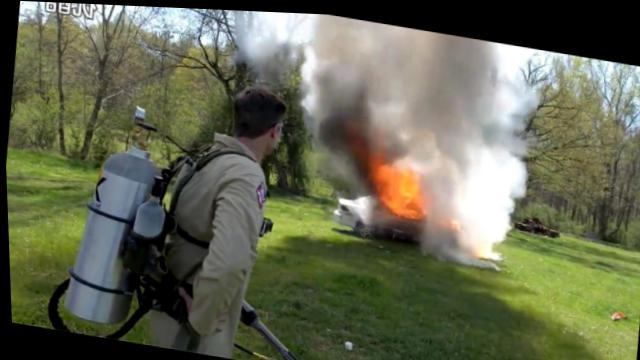fire: (387, 162, 423, 215), (371, 156, 395, 202)
